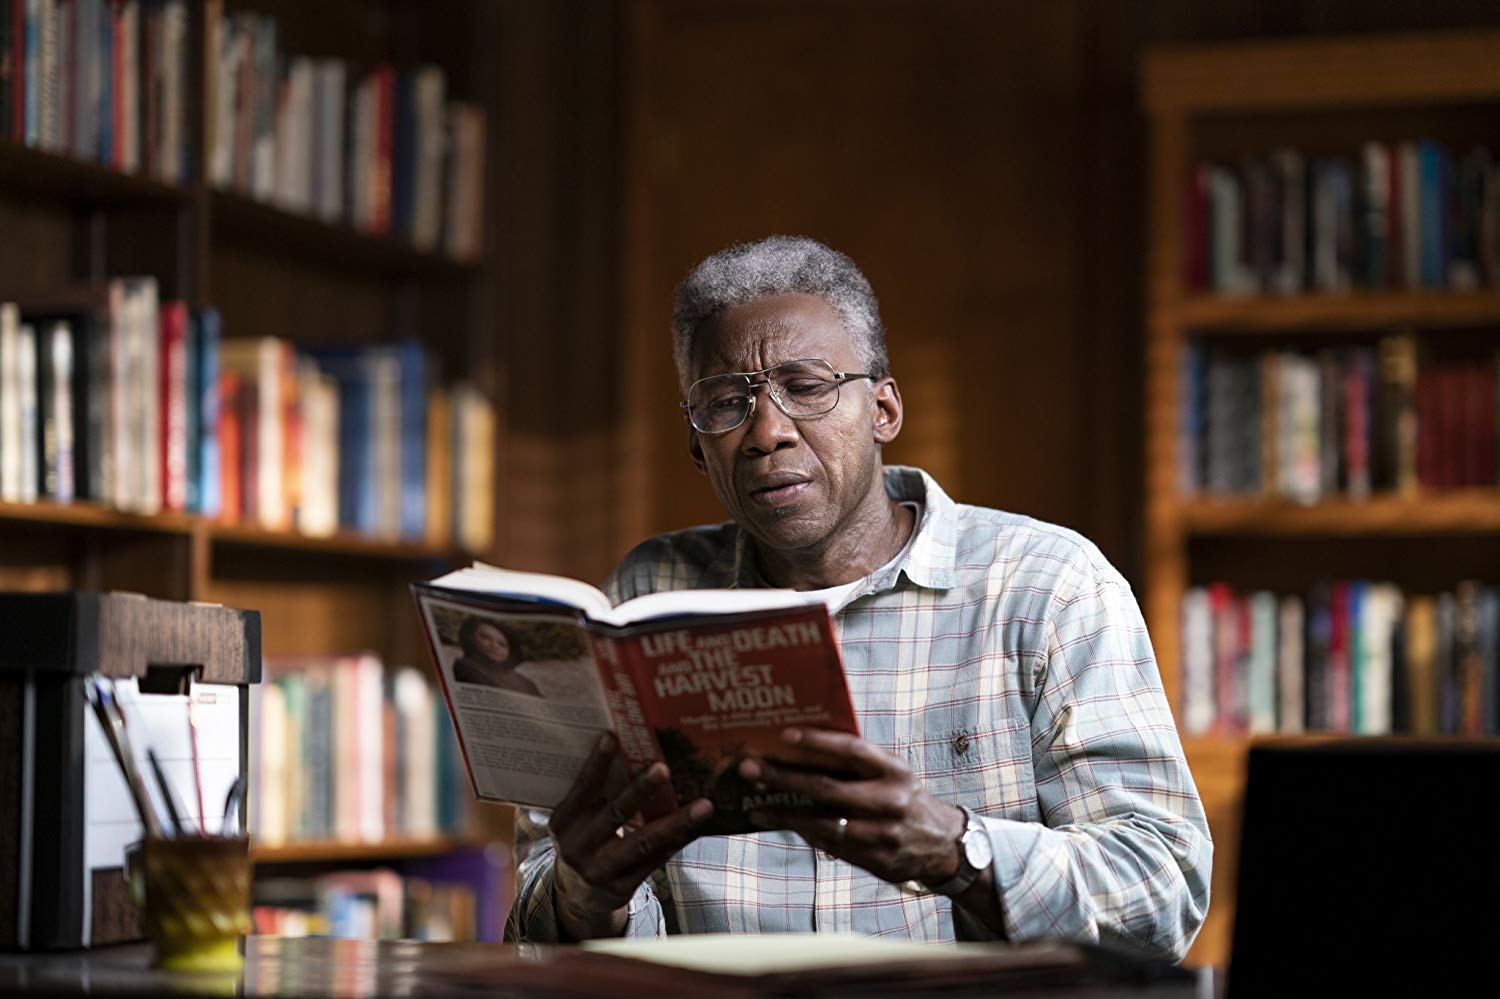person: (504, 236, 1207, 967)
